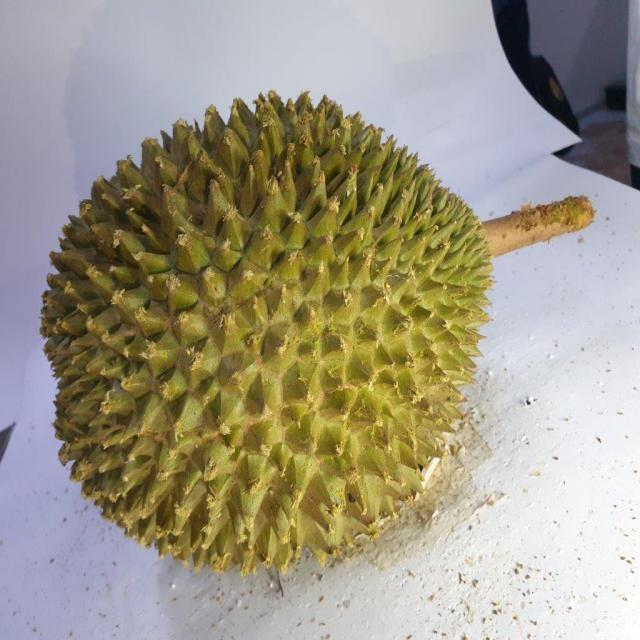immature: (39, 85, 495, 575)
